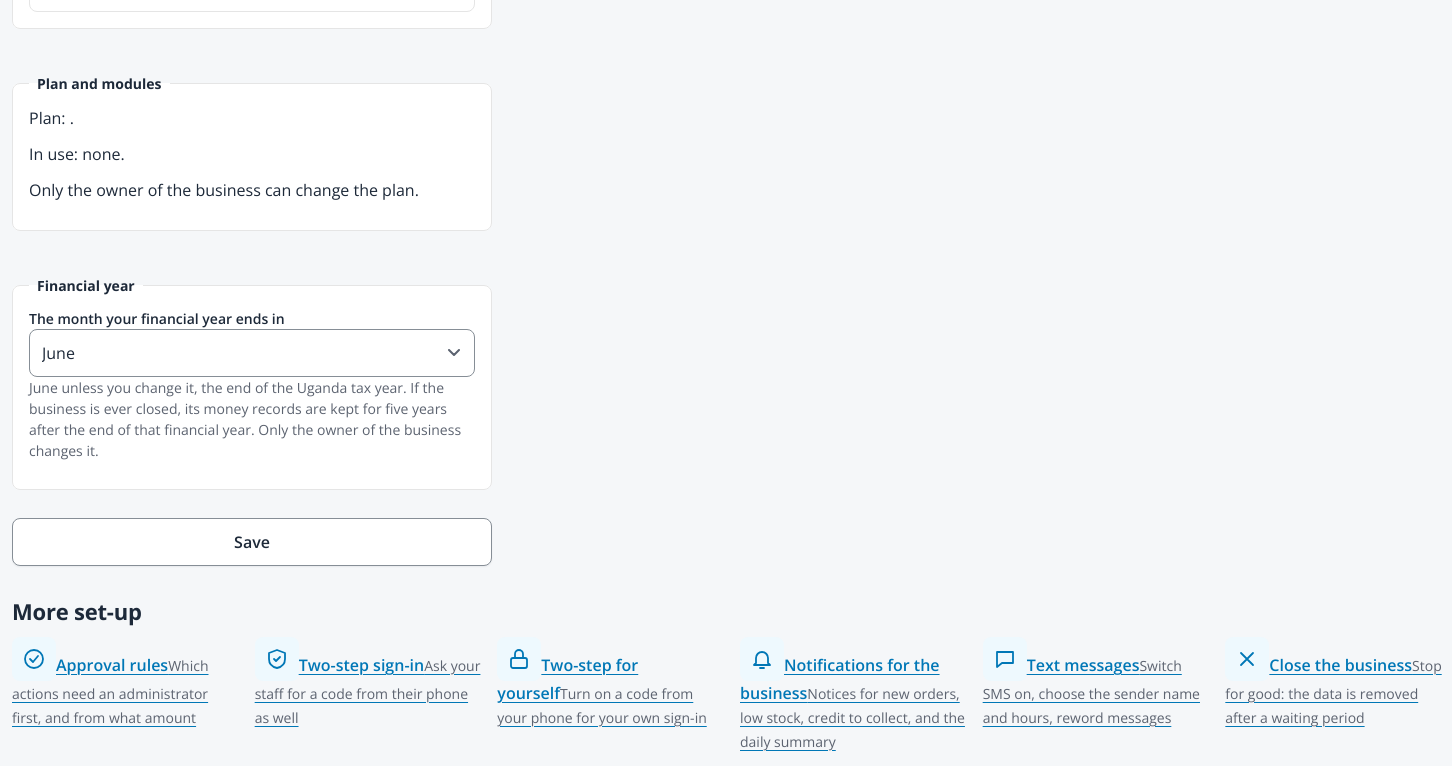
Test case: the end of the financial year (ADR-090) › is June until the Owner chooses another month, saved as financial_year_end_month
This screenshot has width=1452, height=766.
(page scrolled)
Select "December" in the dropdown labelled "The month your financial year ends in" at (252, 353), box [29,329,475,377]
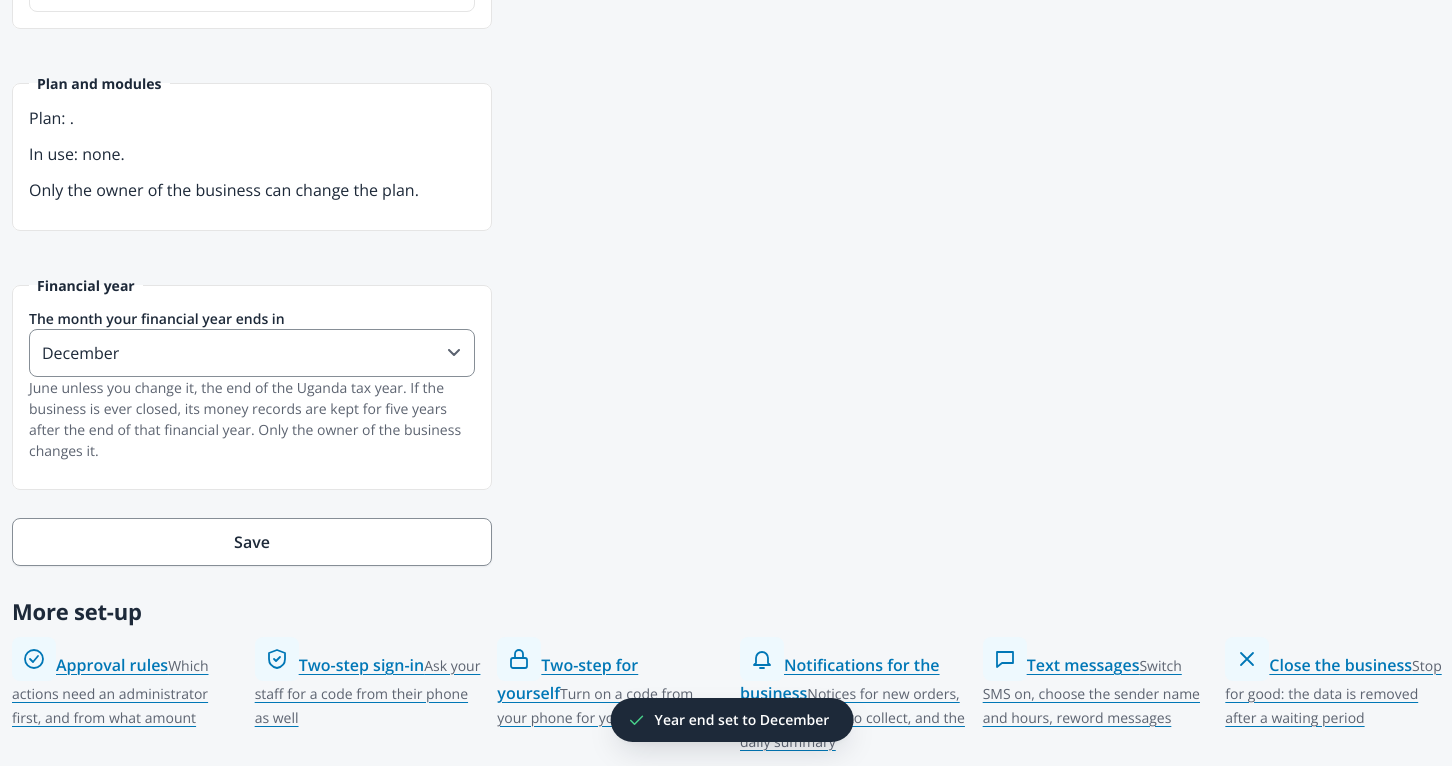
expect the text "Year end set to December" is shown: met, box [655,710,829,730]
